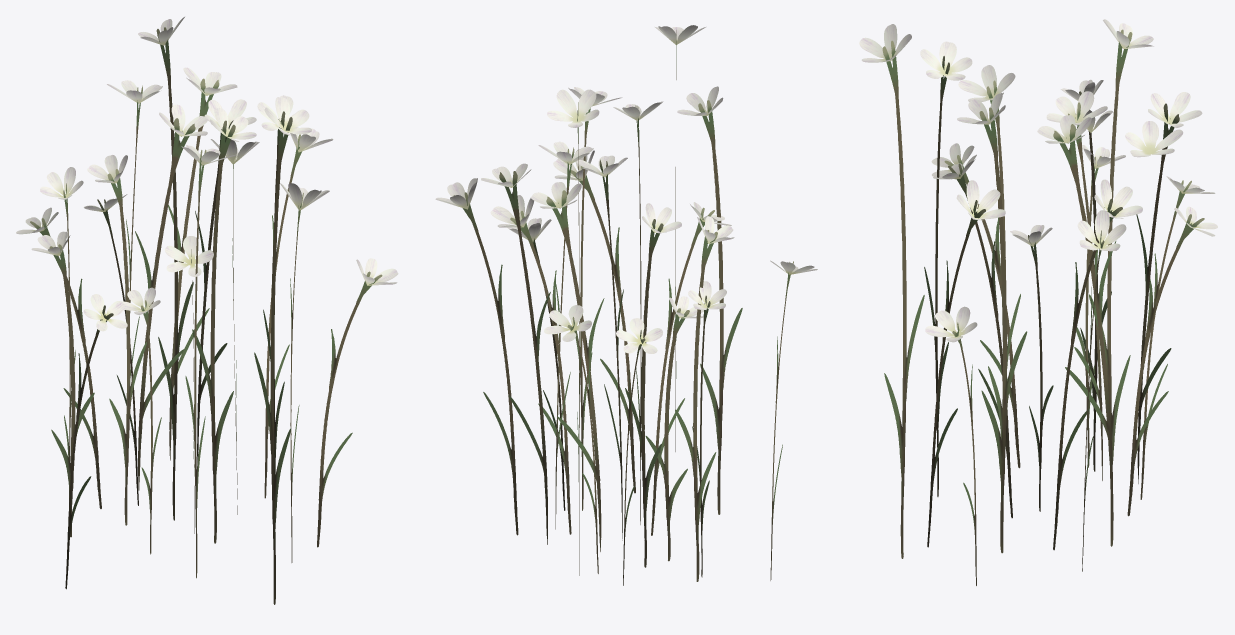
File: flowers1.glb
3 views of the same model, side by side, from view 1: azimuth 30°, elevation 25°; view 2: azimuth 150°, elevation 25°; view 3: azimuth 270°, elevation 25° (orthographic). The views are drawn at different scales.
Visible parts, largest first — view 1: Object_9; view 2: Object_9; view 3: Object_9.
Boxes of the visible parts, x1=… form: Object_9: x1=16, y1=17, x2=398, y2=604; Object_9: x1=435, y1=25, x2=817, y2=585; Object_9: x1=859, y1=19, x2=1217, y2=585.
Size of the model in its own units: 9.74 by 15.29 by 9.35.
1 material, 1 textured.
